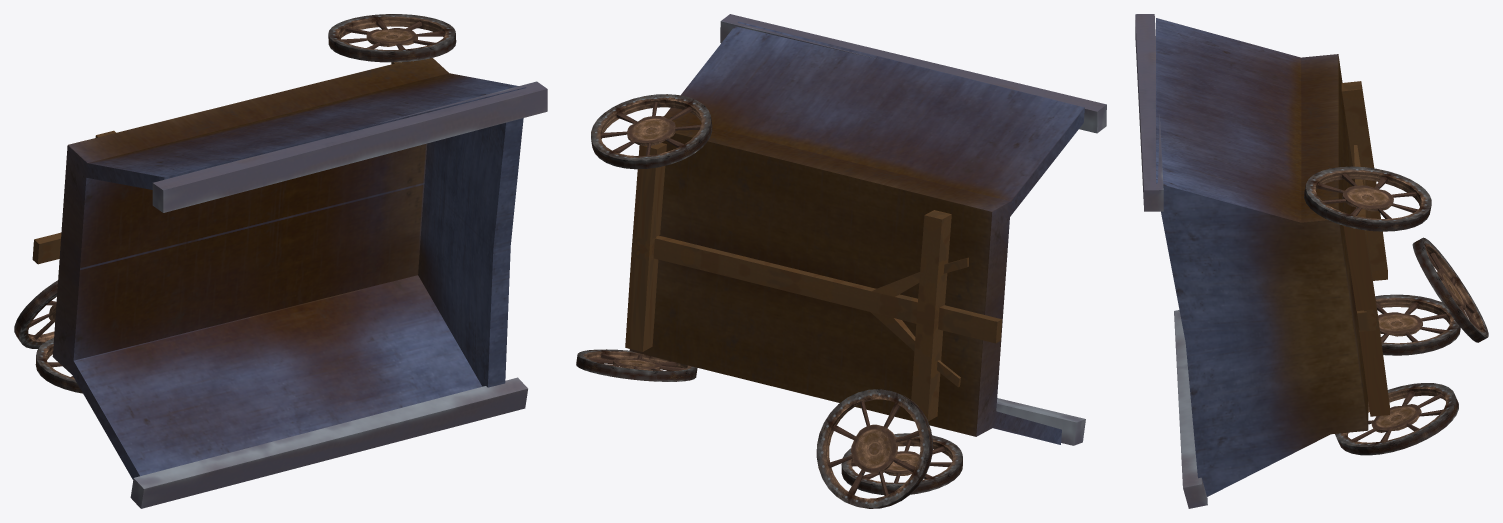
The model's file is nidai.fbx.
The picture shows the model from 3 angles, left to right: view 1: azimuth 30°, elevation 25°; view 2: azimuth 150°, elevation 25°; view 3: azimuth 270°, elevation 25°; orthographic projection. The views are drawn at different scales.
Visible parts, largest first — view 1: body_under; view 2: body_under; view 3: body_under.
Part boxes in pixels (<box>): body_under: <box>14,14,547,508</box>; body_under: <box>576,14,1106,508</box>; body_under: <box>1135,14,1488,508</box>.
Bounding box in the file's own units: 63.72 × 50 × 50.
4 materials, 4 textured.
